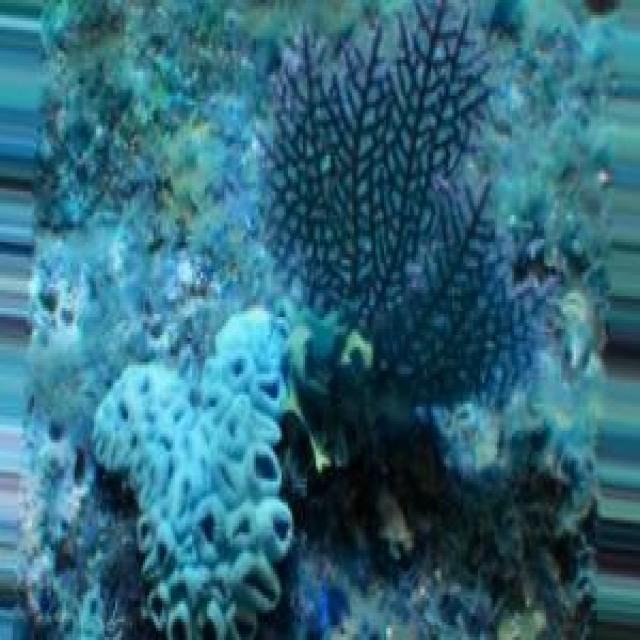Bleached: (95, 312, 295, 640)
Healthy: (266, 4, 530, 399)
